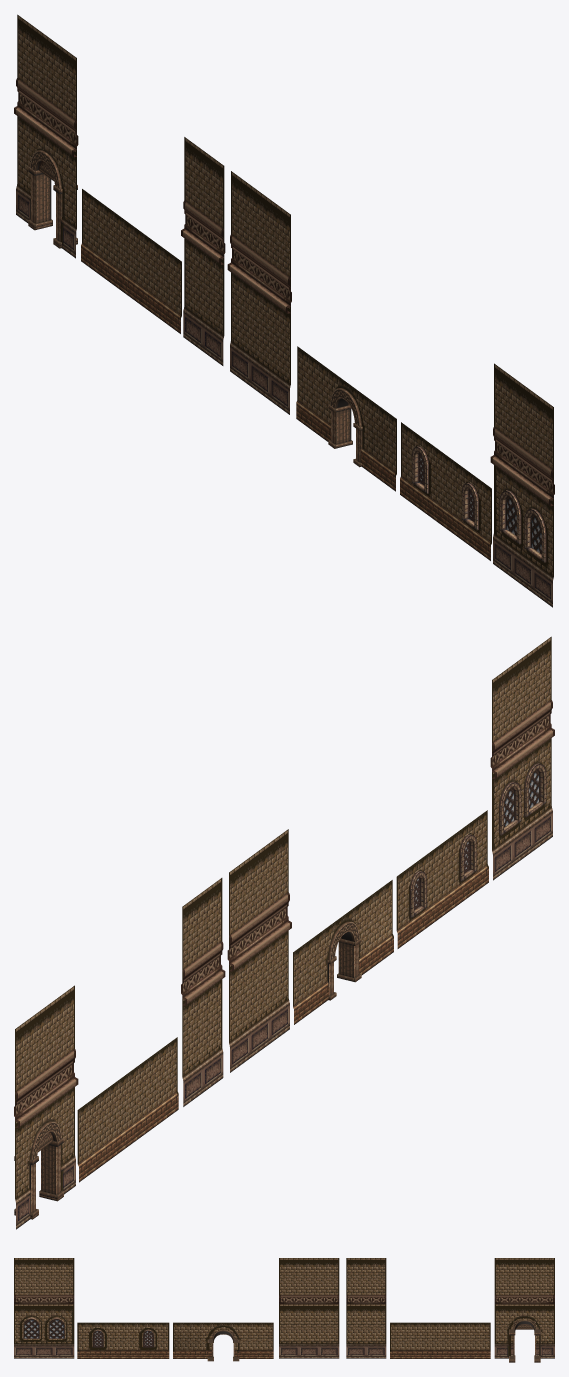
File: ObjMD_Desert_Palace_Wall_A.FBX
3 renders of one model, top to bottom at view 1: azimuth 30°, elevation 25°; view 2: azimuth 150°, elevation 25°; view 3: azimuth 270°, elevation 25°, orthographic. The views are drawn at different scales.
Parts seen in each view (by area): view 1: ObjMD_Desert_Palace_Wall_A, ObjMD_Desert_Palace_Wall_Window_A, ObjMD_Desert_Palace_Wall_Gate_A, ObjMD_Desert_Palace_Wall_C, ObjMD_Desert_Palace_Wall_B, ObjMD_Desert_Palace_Wall_Gate_B, ObjMD_Desert_Palace_Wall_Window_B; view 2: ObjMD_Desert_Palace_Wall_A, ObjMD_Desert_Palace_Wall_Window_A, ObjMD_Desert_Palace_Wall_Gate_A, ObjMD_Desert_Palace_Wall_C, ObjMD_Desert_Palace_Wall_B, ObjMD_Desert_Palace_Wall_Gate_B, ObjMD_Desert_Palace_Wall_Window_B; view 3: ObjMD_Desert_Palace_Wall_A, ObjMD_Desert_Palace_Wall_Window_A, ObjMD_Desert_Palace_Wall_Gate_A, ObjMD_Desert_Palace_Wall_C, ObjMD_Desert_Palace_Wall_B, ObjMD_Desert_Palace_Wall_Window_B, ObjMD_Desert_Palace_Wall_Gate_B.
Part boxes in pixels (x1,y1,x2,y2): ObjMD_Desert_Palace_Wall_A: [227, 171, 291, 414]; ObjMD_Desert_Palace_Wall_Window_A: [490, 363, 554, 607]; ObjMD_Desert_Palace_Wall_Gate_A: [14, 14, 78, 258]; ObjMD_Desert_Palace_Wall_C: [181, 137, 225, 365]; ObjMD_Desert_Palace_Wall_B: [81, 189, 181, 333]; ObjMD_Desert_Palace_Wall_Gate_B: [296, 346, 396, 491]; ObjMD_Desert_Palace_Wall_Window_B: [400, 422, 491, 560]; ObjMD_Desert_Palace_Wall_A: [227, 829, 291, 1072]; ObjMD_Desert_Palace_Wall_Window_A: [490, 636, 554, 880]; ObjMD_Desert_Palace_Wall_Gate_A: [14, 985, 78, 1229]; ObjMD_Desert_Palace_Wall_C: [181, 878, 225, 1106]; ObjMD_Desert_Palace_Wall_B: [77, 1037, 178, 1182]; ObjMD_Desert_Palace_Wall_Gate_B: [293, 880, 393, 1024]; ObjMD_Desert_Palace_Wall_Window_B: [396, 810, 488, 948]; ObjMD_Desert_Palace_Wall_A: [279, 1258, 339, 1358]; ObjMD_Desert_Palace_Wall_Window_A: [14, 1258, 74, 1358]; ObjMD_Desert_Palace_Wall_Gate_A: [494, 1258, 554, 1362]; ObjMD_Desert_Palace_Wall_C: [346, 1258, 386, 1358]; ObjMD_Desert_Palace_Wall_B: [390, 1322, 490, 1358]; ObjMD_Desert_Palace_Wall_Window_B: [77, 1322, 169, 1358]; ObjMD_Desert_Palace_Wall_Gate_B: [173, 1322, 273, 1361].
Size of the model in its own units: 112 by 1106 by 5374.
